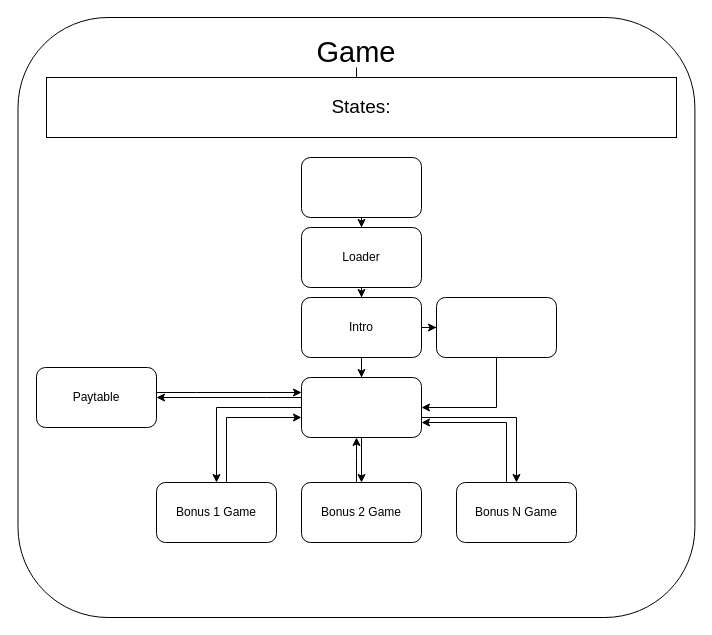
Image size: 712x635. Some labels were removed from this diagram. The shapes that lost their labels are listed below. From the top down, each one's box as (x1, y1, x2, y2) in pixels, then its label:
(300, 156, 422, 218): Preloader
(436, 296, 556, 358): Restoring
(300, 376, 422, 438): Main Game
